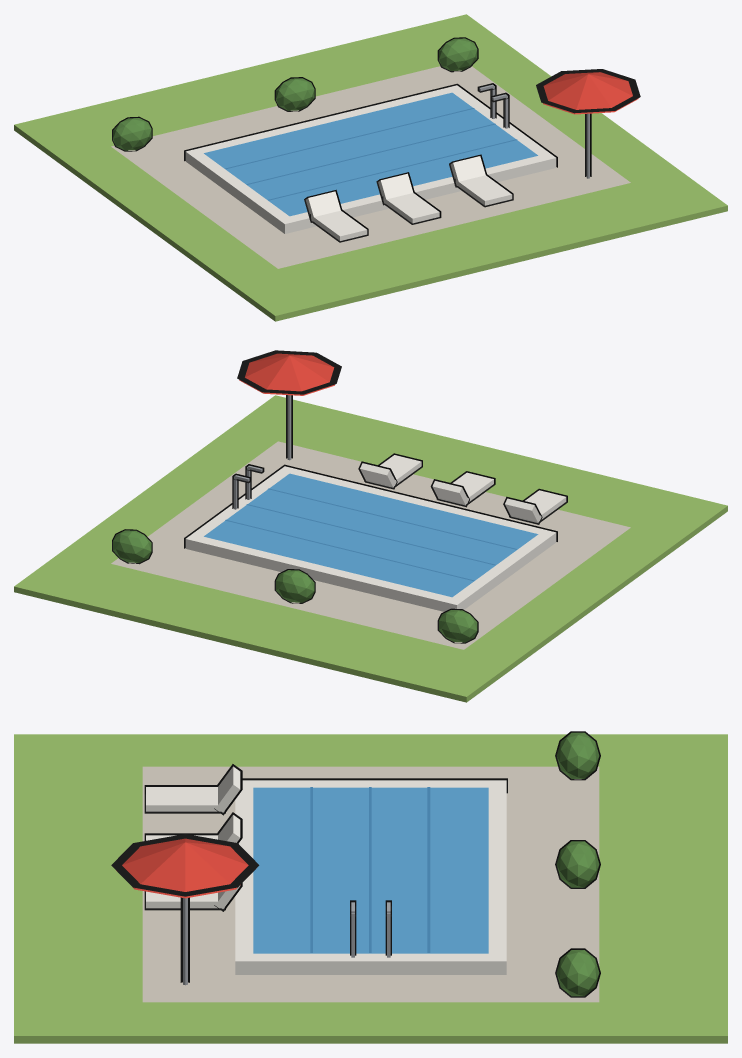
Rendered from Avlu_havuz.fbx.
3 views of the same model, one above another, from view 1: azimuth 30°, elevation 25°; view 2: azimuth 150°, elevation 25°; view 3: azimuth 270°, elevation 25° (orthographic). The views are drawn at different scales.
Parts seen in each view (by area): view 1: Avlu_havuz; view 2: Avlu_havuz; view 3: Avlu_havuz.
Part boxes in pixels (bbox=[...]): Avlu_havuz: bbox=[14, 14, 727, 321]; Avlu_havuz: bbox=[14, 350, 727, 702]; Avlu_havuz: bbox=[14, 731, 727, 1043].
Bounding box in the file's own units: 10 × 2.34 × 10.
